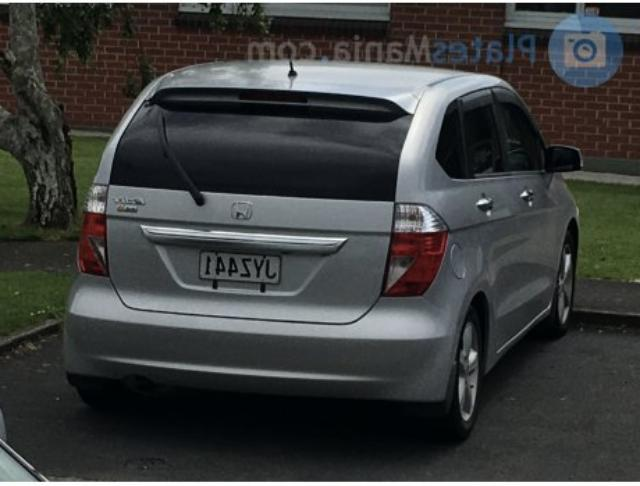Rego: (200, 252, 280, 286)
